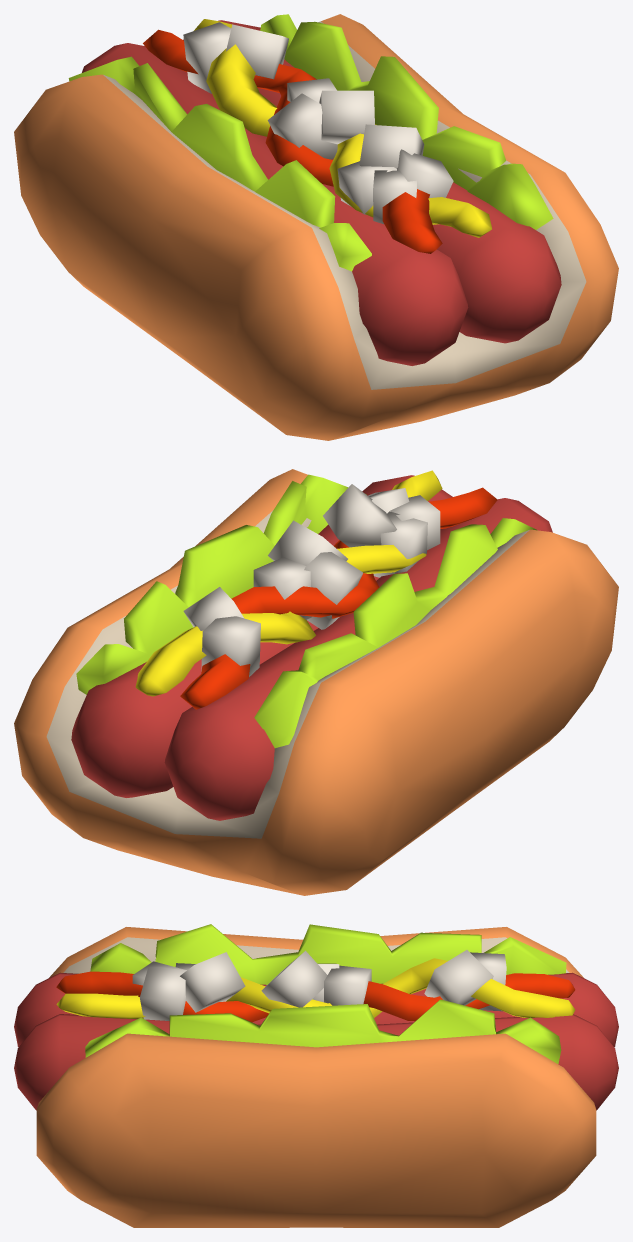
The model's file is Hotdog2_geo.fbx.
The picture shows the model from 3 angles, top to bottom: view 1: azimuth 30°, elevation 25°; view 2: azimuth 150°, elevation 25°; view 3: azimuth 270°, elevation 25°; orthographic projection. The views are drawn at different scales.
Parts seen in each view (by area): view 1: Hotdog2_geo; view 2: Hotdog2_geo; view 3: Hotdog2_geo.
Part boxes in pixels (x1,y1,x2,y2): Hotdog2_geo: (14,14,618,440); Hotdog2_geo: (14,469,618,895); Hotdog2_geo: (14,924,618,1227).
Size of the model in its own units: 0.4849 by 0.8083 by 0.3466.
